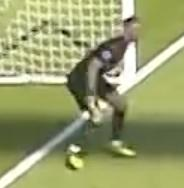goalkeeper: (46, 9, 162, 174)
